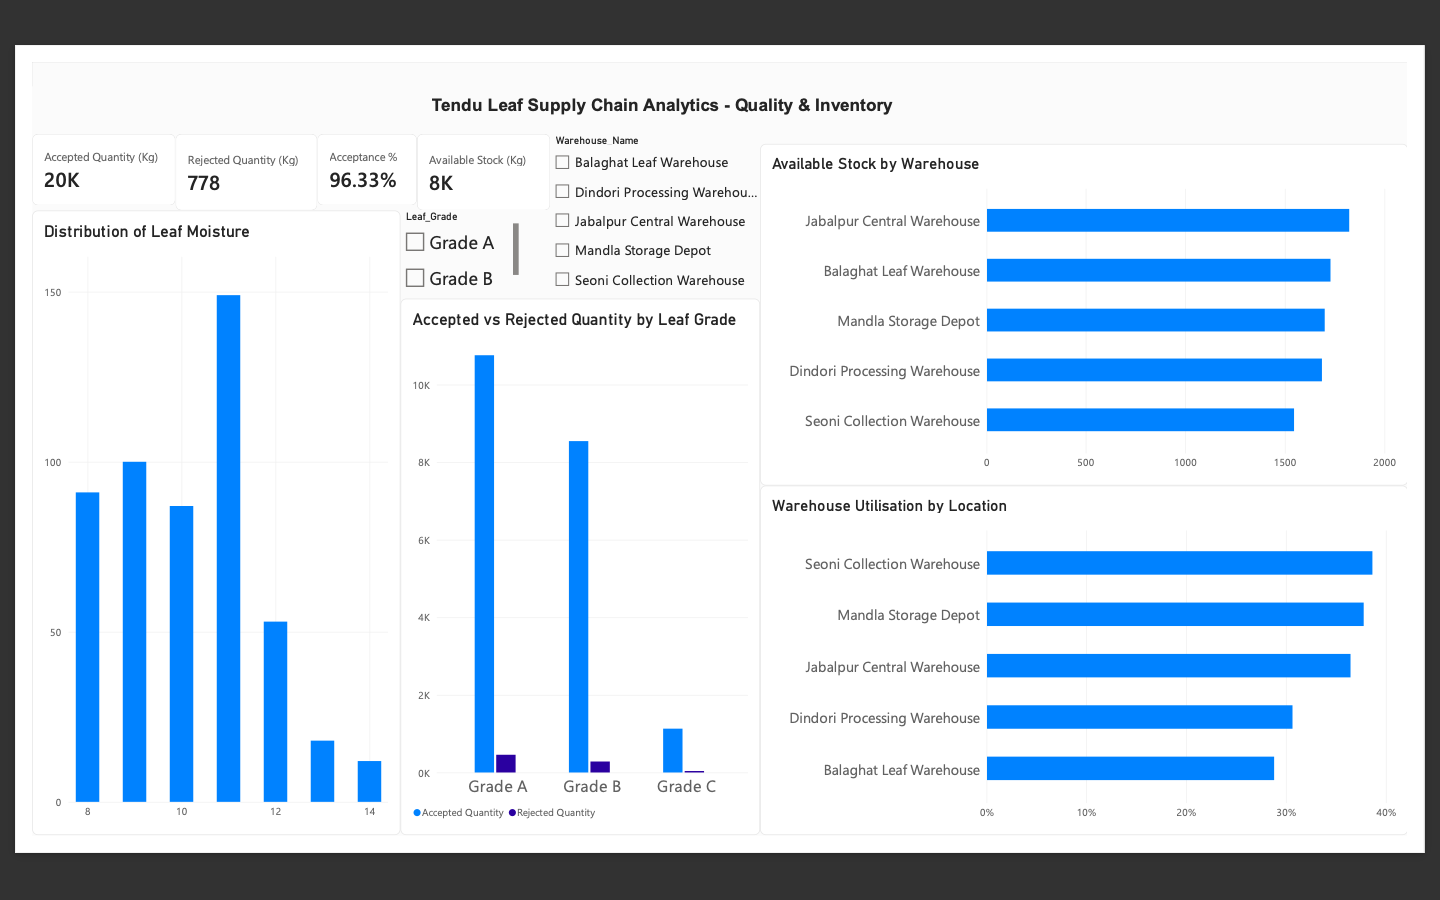

This screenshot's page, from the dashboard's own definition file:
{"tool":"powerbi","page":{"name":"Quality & Inventory","canvas":[1920,1080],"ordinal":2},"visuals":[{"type":"textbox","box":[558.1,44.2,727.9,55.8],"z":0},{"type":"cardVisual","fields":{"Data":["Quality_Inspection.Accepted Quantity"]},"box":[0,100,200,100],"z":1000},{"type":"cardVisual","fields":{"Data":["Quality_Inspection.Rejected Quantity"]},"box":[200,100,197.7,107],"z":2000},{"type":"cardVisual","fields":{"Data":["Quality_Inspection.Acceptance %"]},"box":[397.7,100,139.5,100],"z":3000},{"type":"cardVisual","fields":{"Data":["Inventory.Available Stock"]},"box":[537.2,100,186,107],"z":4000},{"type":"clusteredColumnChart","title":"Accepted vs Rejected Quantity by Leaf Grade","fields":{"Category":["Quality_Inspection.Leaf_Grade"],"Y":["Quality_Inspection.Accepted Quantity","Quality_Inspection.Rejected Quantity"]},"box":[514,330.2,502.3,748.8],"z":5000},{"type":"clusteredColumnChart","title":"Distribution of Leaf Moisture","fields":{"Category":["Quality_Inspection.Moisture_Percentage"],"Y":["CountNonNull(Quality_Inspection.Inspection_ID)"]},"box":[0,207,514,872.1],"z":6000},{"type":"clusteredBarChart","title":"Available Stock by Warehouse","fields":{"Category":["Warehouses.Warehouse_Name"],"Y":["Inventory.Available Stock"]},"box":[1016.3,114,904.7,476.7],"z":7000},{"type":"clusteredBarChart","title":"Warehouse Utilisation by Location","fields":{"Category":["Warehouses.Warehouse_Name"],"Y":["Inventory.Warehouse Utilisation %"]},"box":[1016.3,590.7,904.7,488.4],"z":8000},{"type":"slicer","fields":{"Values":["Quality_Inspection.Leaf_Grade"]},"box":[514,207,165.1,123.3],"z":9000},{"type":"slicer","fields":{"Values":["Warehouses.Warehouse_Name"]},"box":[723.3,100,293,230.2],"z":10000}]}

Visuals, with their boxes on the page's 1920x1080 design canvas (x1, y1, x2, y2). These are canvas units, not pixel positions in the 1440x900 screenshot, which may show the page scaled, cropped or inside an application window:
textbox: [558,44,1286,100]
cardVisual - Quality_Inspection.Accepted Quantity: [0,100,200,200]
cardVisual - Quality_Inspection.Rejected Quantity: [200,100,398,207]
cardVisual - Quality_Inspection.Acceptance %: [398,100,537,200]
cardVisual - Inventory.Available Stock: [537,100,723,207]
"Accepted vs Rejected Quantity by Leaf Grade" clusteredColumnChart: [514,330,1016,1079]
"Distribution of Leaf Moisture" clusteredColumnChart: [0,207,514,1079]
"Available Stock by Warehouse" clusteredBarChart: [1016,114,1921,591]
"Warehouse Utilisation by Location" clusteredBarChart: [1016,591,1921,1079]
slicer - Quality_Inspection.Leaf_Grade: [514,207,679,330]
slicer - Warehouses.Warehouse_Name: [723,100,1016,330]
